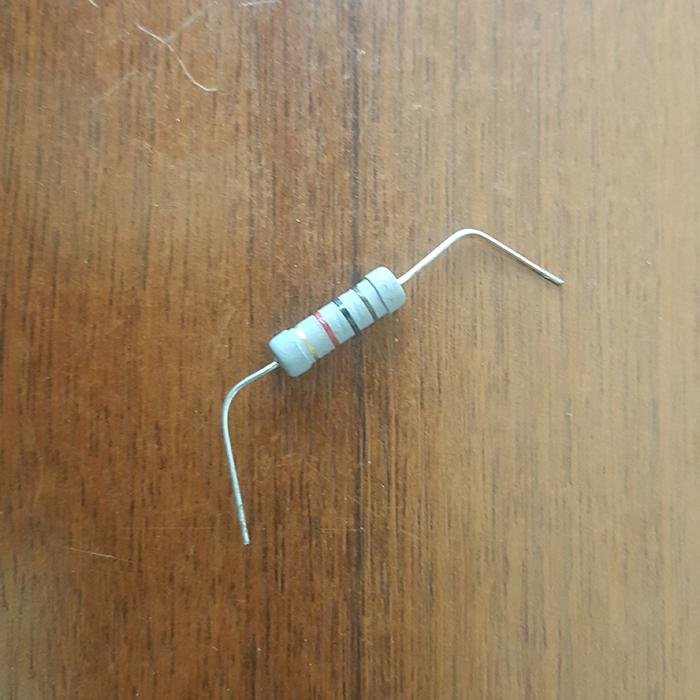resistor: (267, 265, 407, 376)
